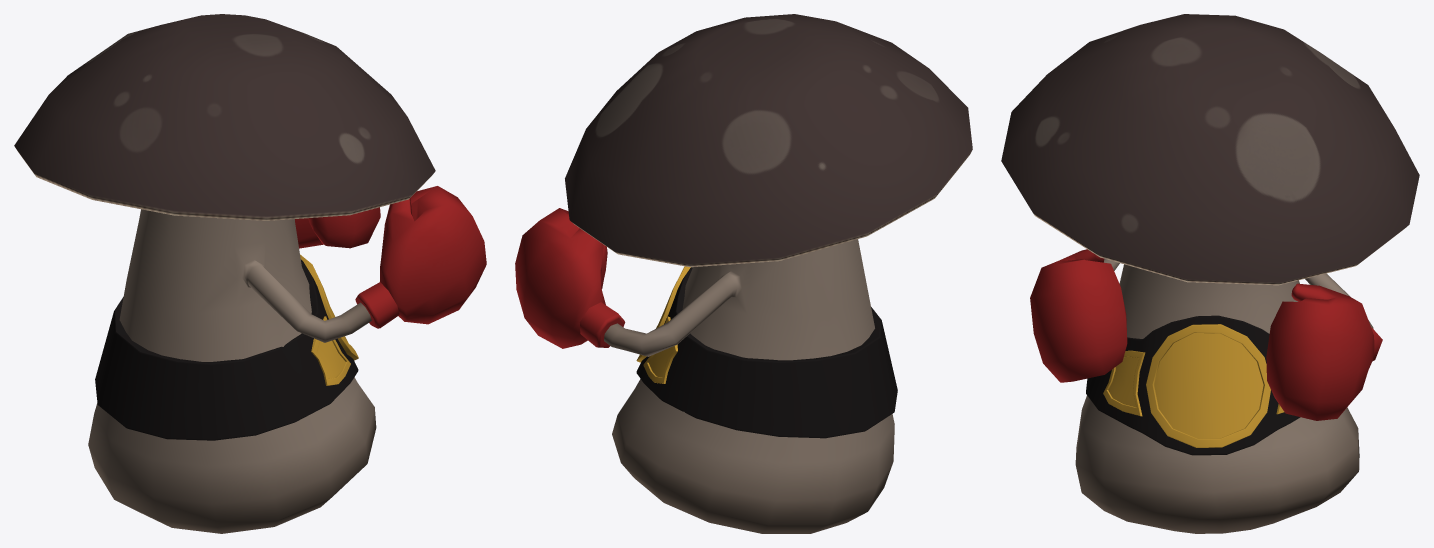
File: chungus_hi.fbx
The picture shows the model from 3 angles, left to right: view 1: azimuth 30°, elevation 25°; view 2: azimuth 150°, elevation 25°; view 3: azimuth 270°, elevation 25°; orthographic projection.
Parts seen in each view (by area): view 1: Chungus_hi; view 2: Chungus_hi; view 3: Chungus_hi.
Part boxes in pixels (left/top/right/bottom): Chungus_hi: left=14, top=14, right=486, bottom=533; Chungus_hi: left=515, top=14, right=972, bottom=533; Chungus_hi: left=1001, top=14, right=1419, bottom=533.
Size of the model in its own units: 1.66 by 1.99 by 1.57.
1 material, 1 textured.
